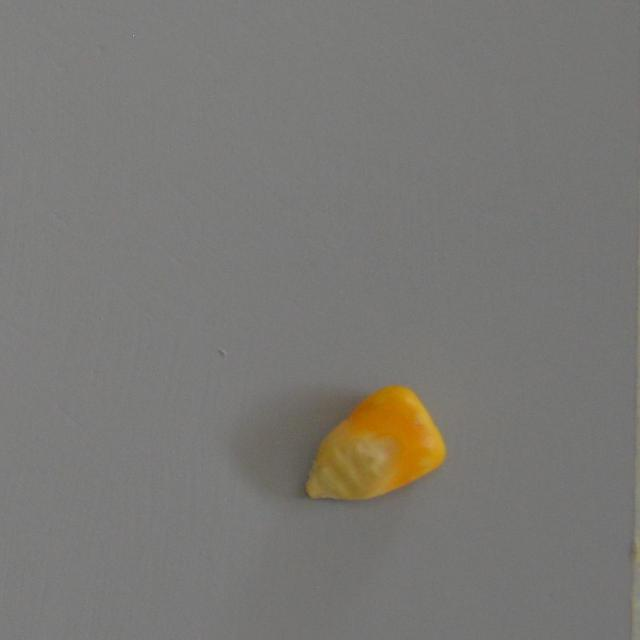entero: (300, 386, 447, 507)
